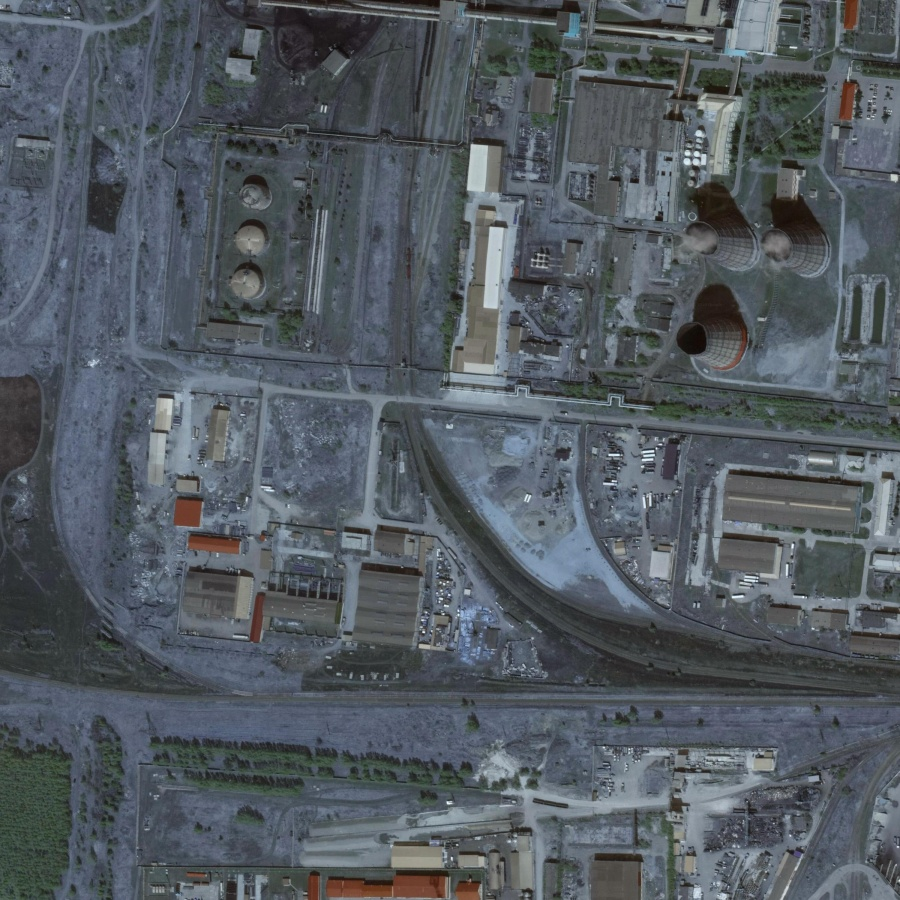PowerPlant: (668, 153, 857, 408), (190, 117, 338, 359)
